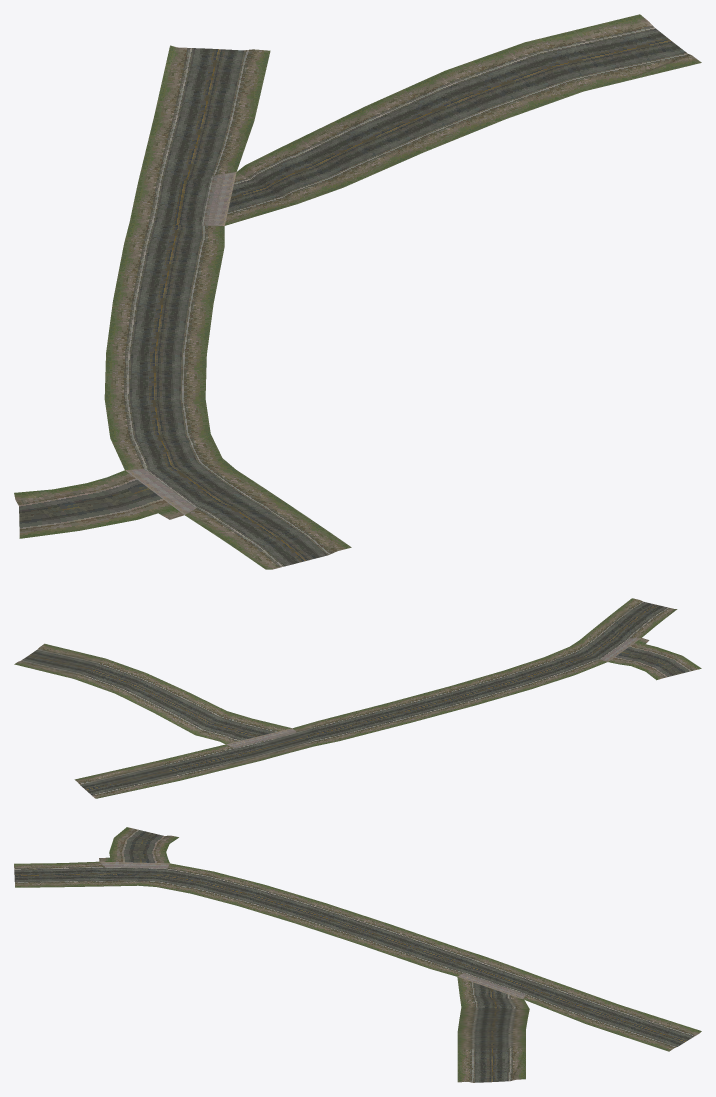
Rendered from lodcunte_roads08.obj.
3 views of the same model, one above another, from view 1: azimuth 30°, elevation 25°; view 2: azimuth 150°, elevation 25°; view 3: azimuth 270°, elevation 25° (orthographic). The views are drawn at different scales.
Visible parts, largest first — view 1: LODcunte_roads08; view 2: LODcunte_roads08; view 3: LODcunte_roads08.
Part boxes in pixels (bbox=[...]): LODcunte_roads08: bbox=[14, 14, 701, 569]; LODcunte_roads08: bbox=[14, 598, 701, 798]; LODcunte_roads08: bbox=[14, 827, 701, 1082].
Size of the model in its own units: 205 by 14.19 by 221.
Materials: 3 (3 with a texture image).
